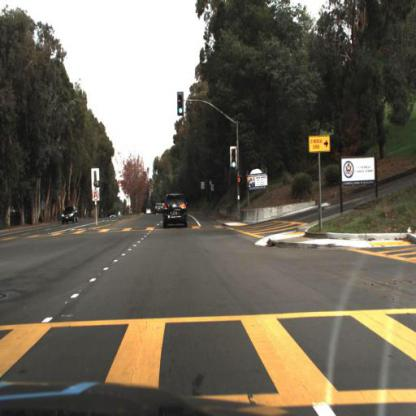car: (160, 189, 192, 232), (58, 202, 80, 230), (60, 202, 81, 228), (154, 200, 164, 216)
trafficLight-Green: (230, 144, 240, 177), (177, 90, 186, 122), (231, 156, 238, 174), (177, 105, 185, 118)
trafficLight-Red: (237, 175, 244, 188)
